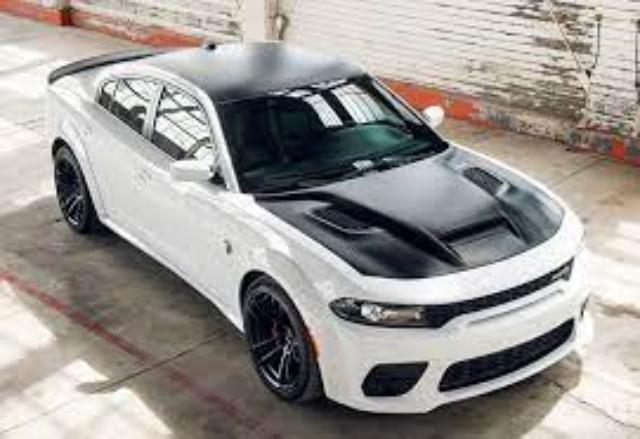dodge: (45, 40, 593, 414)
